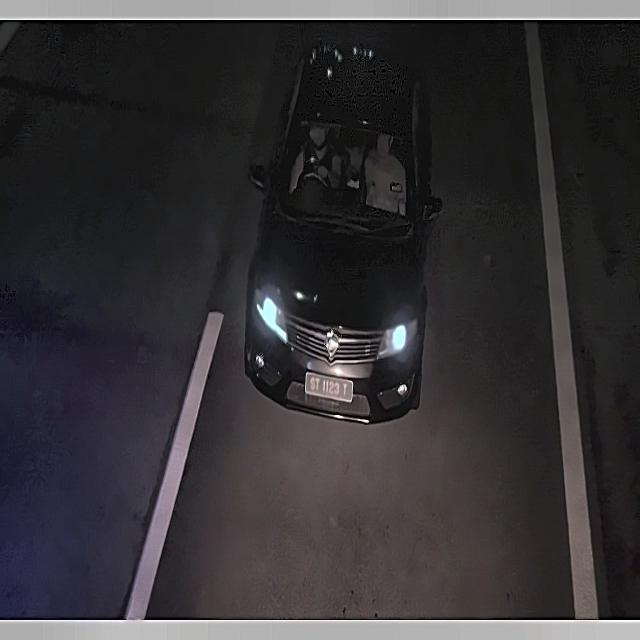car: (302, 373, 357, 407)
